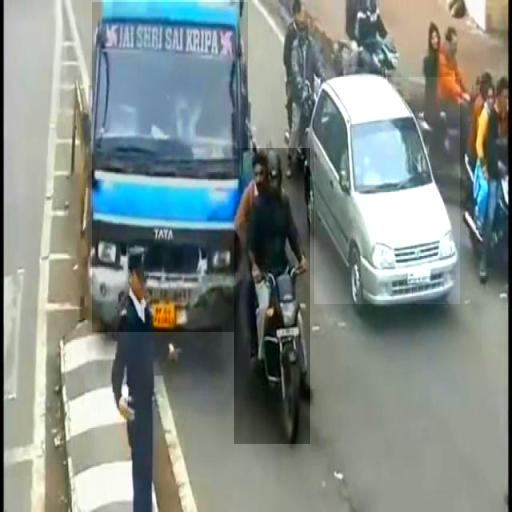小汽车: (92, 2, 248, 332), (314, 77, 460, 304)
自行车: (234, 148, 310, 444)
